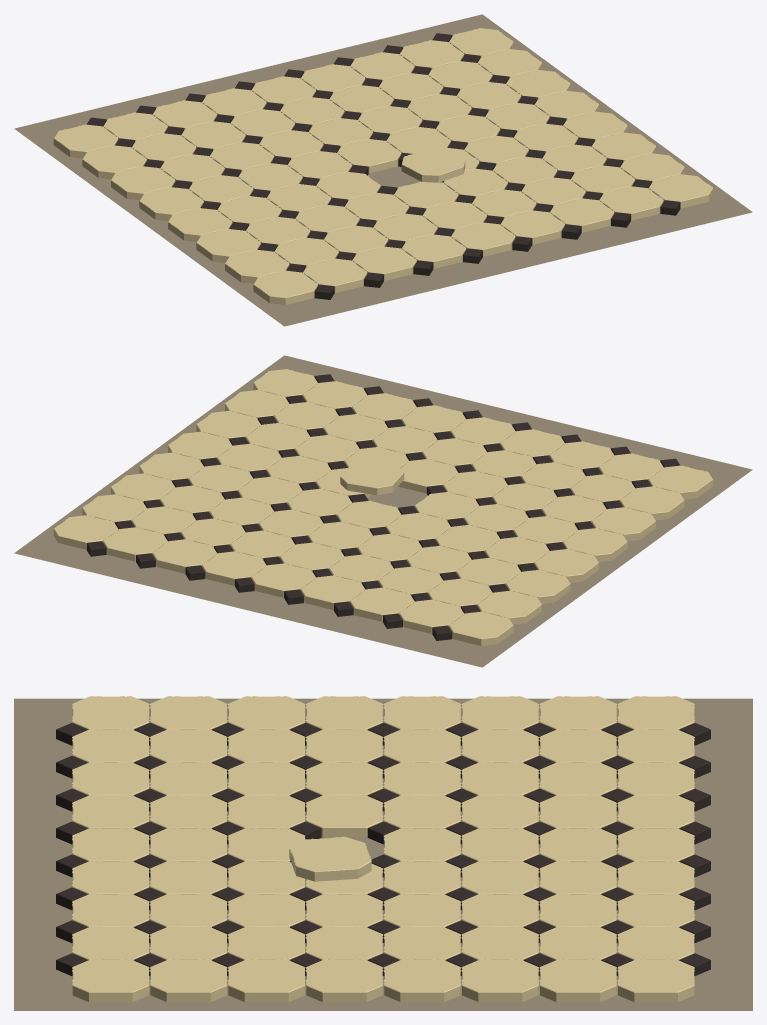
The model's file is terilgan.glb.
3 views of the same model, one above another, from view 1: azimuth 30°, elevation 25°; view 2: azimuth 150°, elevation 25°; view 3: azimuth 270°, elevation 25° (orthographic). The views are drawn at different scales.
Visible parts, largest first — view 1: qum, t.075, t.001, t.136, t.069, t.015, t.077, t.035, t.052, t.003, t.013, t.120 (+60 smaller); view 2: qum, t.075, t.015, t.143, t.083, t.001, t.049, t.066, t.003, t.013, t.134, t.032 (+61 smaller); view 3: qum, t.075, t.137, t.142, t.136, t.143, t.138, t.141, t.139, t.140, t.058, t.005 (+61 smaller).
Boxes of the visible parts, bbox=[...] form: qum: bbox=[14, 14, 752, 326]; t.075: bbox=[401, 148, 465, 182]; t.001: bbox=[253, 270, 317, 304]; t.136: bbox=[649, 174, 713, 208]; t.069: bbox=[451, 222, 515, 256]; t.015: bbox=[53, 124, 118, 158]; t.077: bbox=[337, 139, 401, 173]; t.035: bbox=[352, 246, 416, 280]; t.052: bbox=[401, 234, 466, 268]; t.003: bbox=[225, 249, 289, 283]; t.013: bbox=[82, 145, 146, 179]; t.120: bbox=[599, 186, 663, 220]; qum: bbox=[14, 355, 752, 667]; t.075: bbox=[340, 461, 404, 495]; t.015: bbox=[449, 611, 513, 645]; t.143: bbox=[53, 515, 117, 549]; t.083: bbox=[251, 563, 315, 597]; t.001: bbox=[648, 465, 713, 499]; t.049: bbox=[350, 587, 414, 621]; t.066: bbox=[300, 575, 365, 609]; t.003: bbox=[620, 486, 684, 520]; t.013: bbox=[477, 590, 541, 624]; t.134: bbox=[103, 527, 167, 561]; t.032: bbox=[399, 599, 463, 633]; qum: bbox=[14, 698, 752, 1010]; t.075: bbox=[289, 836, 371, 881]; t.137: bbox=[150, 959, 227, 1002]; t.142: bbox=[539, 959, 616, 1002]; t.136: bbox=[72, 959, 149, 1002]; t.143: bbox=[617, 959, 694, 1002]; t.138: bbox=[228, 959, 305, 1002]; t.141: bbox=[461, 959, 538, 1002]; t.139: bbox=[305, 959, 383, 1002]; t.140: bbox=[383, 959, 461, 1002]; t.058: bbox=[305, 795, 383, 837]; t.005: bbox=[228, 696, 305, 729].
Size of the model in its own units: 1.66 by 0.052 by 1.66.
